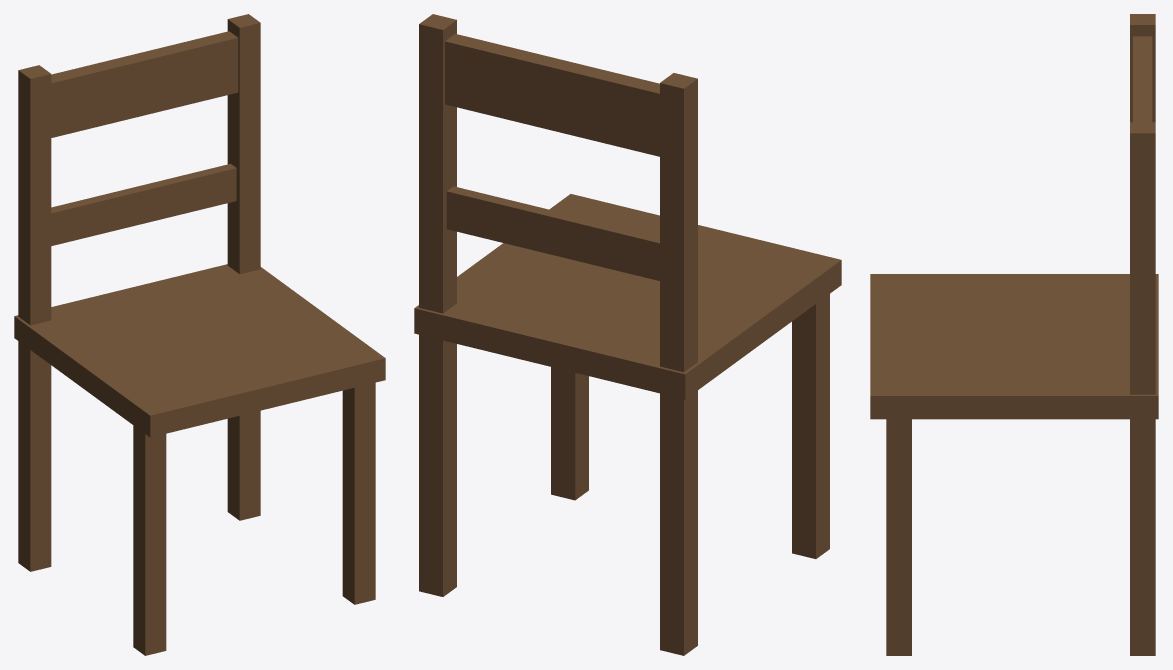
The model's file is chair.glb.
The picture shows the model from 3 angles, left to right: view 1: azimuth 30°, elevation 25°; view 2: azimuth 150°, elevation 25°; view 3: azimuth 270°, elevation 25°; orthographic projection. The views are drawn at different scales.
Visible parts, largest first — view 1: Chair; view 2: Chair; view 3: Chair.
Boxes of the visible parts, <box> form: Chair: <box>14,14,385,655</box>; Chair: <box>414,14,841,655</box>; Chair: <box>870,14,1158,655</box>.
Size of the model in its own units: 0.45 by 0.9 by 0.45.
